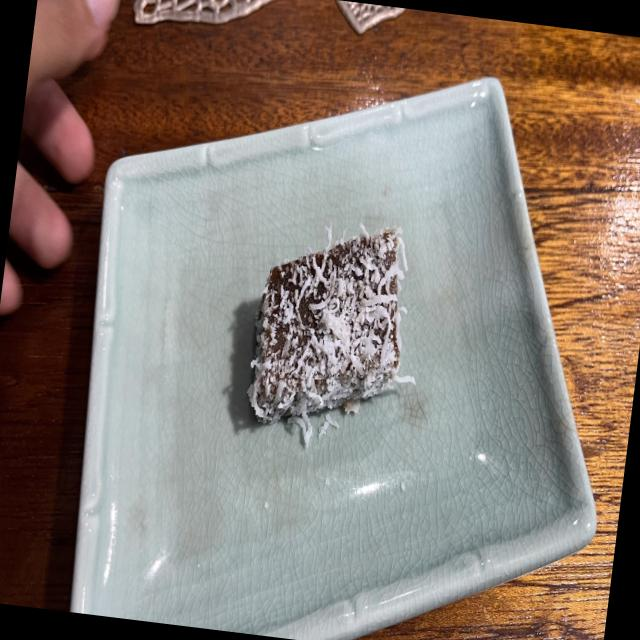kaswi: (248, 226, 413, 444)
